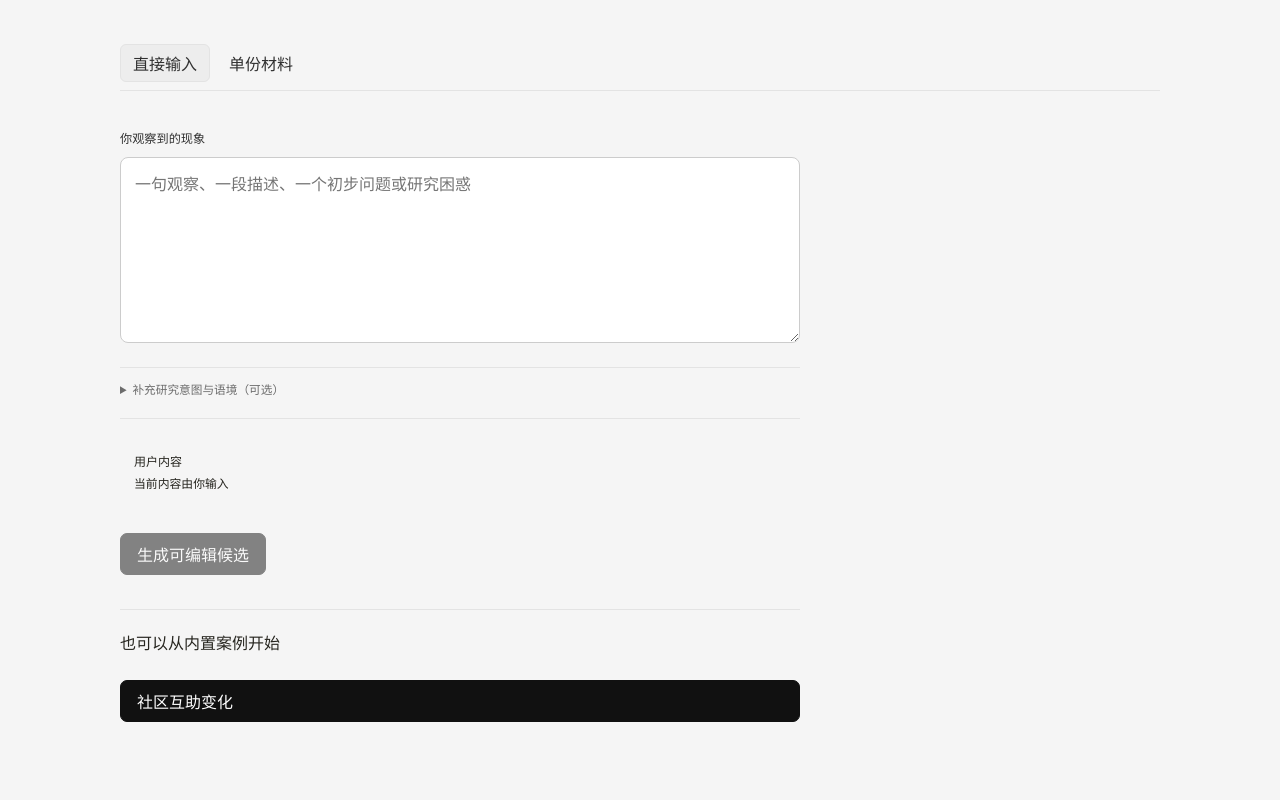
Test case: research entry › shows only implemented entry methods and fills a backend example with visible provenance
Expected: the button "直接输入" is shown, [120,44,210,82]
Expected: the button "单份材料" is shown, [216,44,306,82]
Step 1. Click the button "社区互助变化" → click(185, 702), box [120,680,800,722]
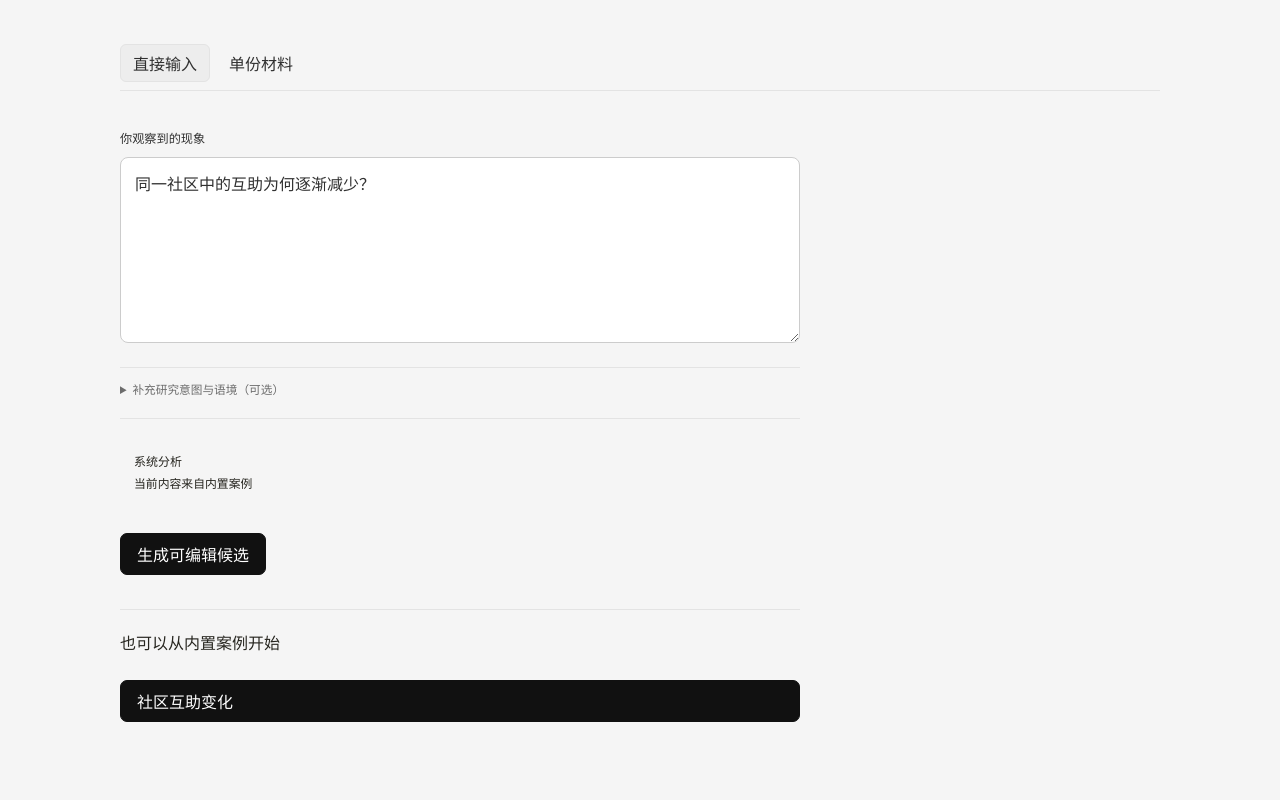
Result: the text box labelled "你观察到的现象" holds "同一社区中的互助为何逐渐减少？" at [120,157,800,343]
Result: the text "当前内容来自内置案例" is shown at [134,477,252,491]
